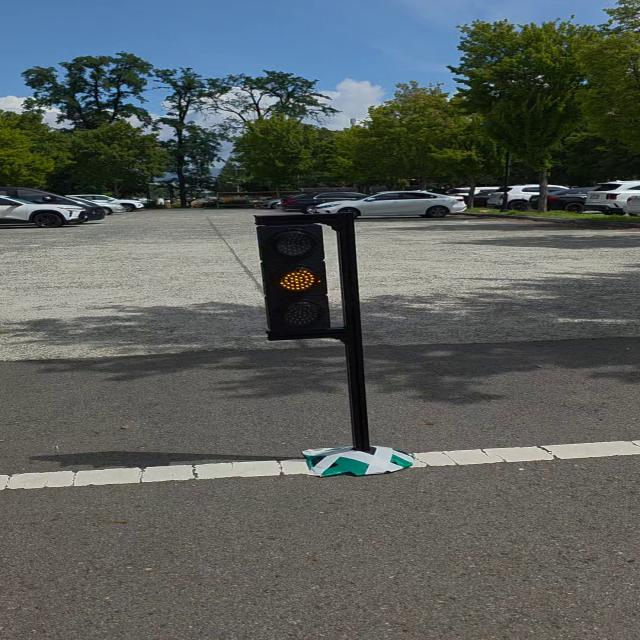yellow: (257, 222, 336, 340)
